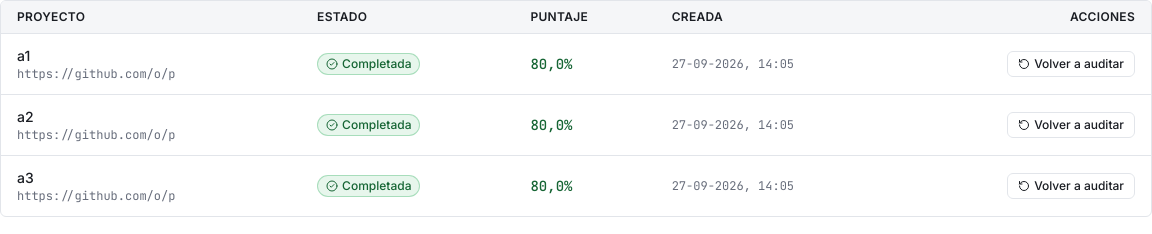
AuditHistoryTable › mientras se envía una re-auditoría deshabilita las demás filas
This screenshot has width=1152, height=234.
Step 1. Click the button "Volver a auditar" in the row of "a2" → (1071, 125), box [1007, 112, 1135, 138]
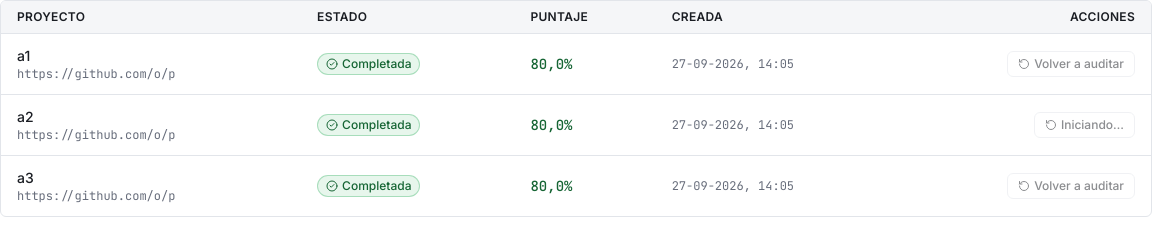
Now the button "Iniciando…" is shown, box [1034, 112, 1135, 138]
Now the button "Volver a auditar" in the row of "a1" is disabled, box [1007, 51, 1135, 77]
Now the button "Volver a auditar" in the row of "a3" is disabled, box [1007, 173, 1135, 199]
